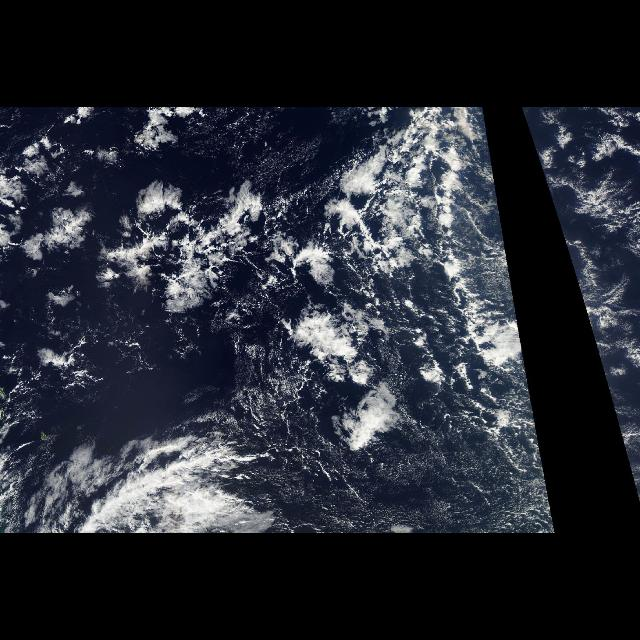Fish: (349, 107, 526, 373)
Flower: (1, 108, 306, 322)
Gravel: (113, 184, 307, 304)
Sugar: (254, 403, 556, 532)
